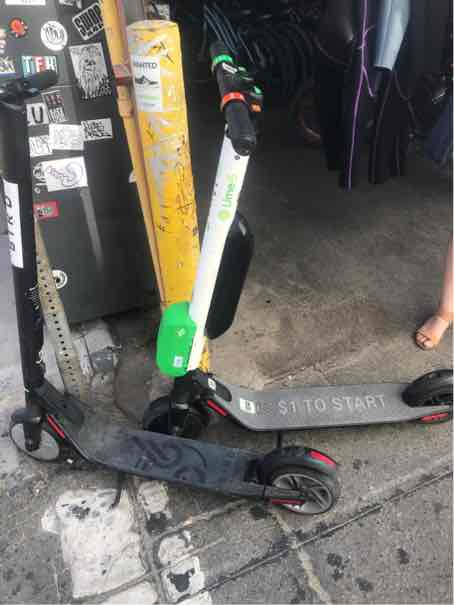scooter: (132, 39, 454, 438)
